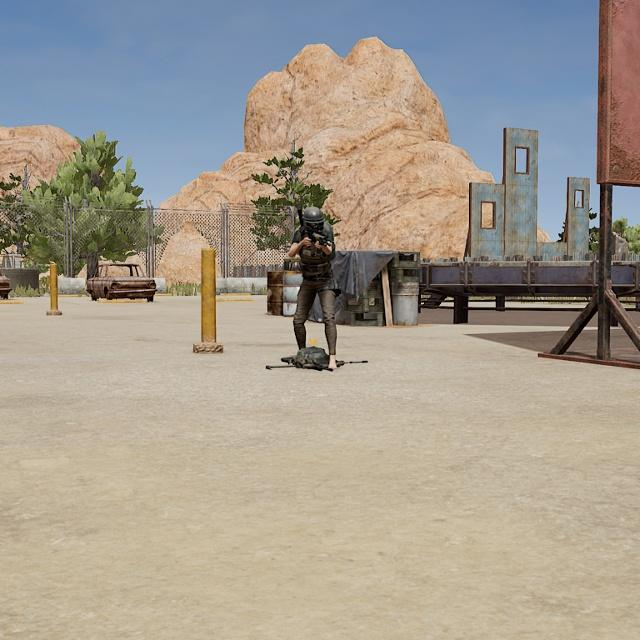head: (301, 205, 327, 238)
people: (286, 204, 340, 372)
